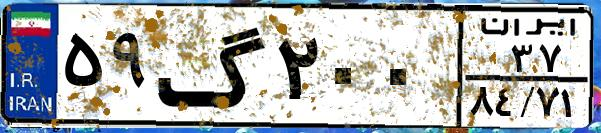0: (385, 28, 445, 110), (330, 28, 385, 110)
1: (560, 70, 590, 125)
2: (270, 28, 330, 110)
3: (508, 27, 537, 80)
4: (495, 70, 520, 125)
5: (57, 26, 110, 100)
7: (537, 27, 568, 80), (535, 70, 560, 125)
8: (470, 70, 495, 125)
9: (110, 28, 156, 98)
گ: (156, 12, 270, 120)
